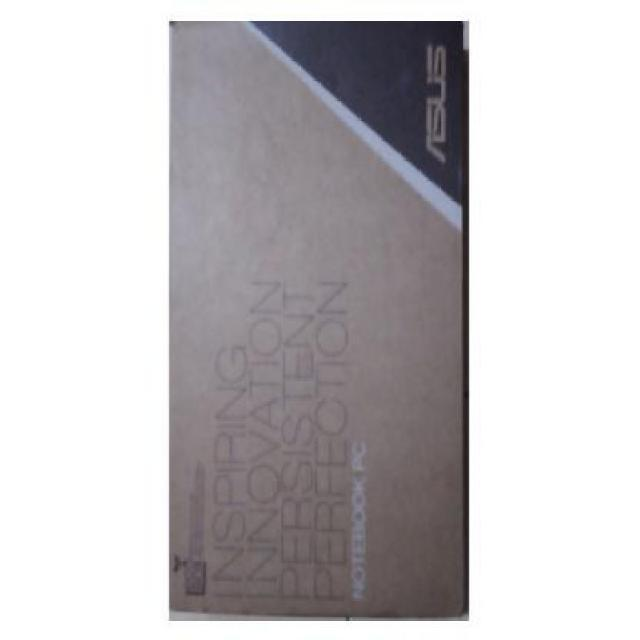box: (168, 18, 464, 610)
